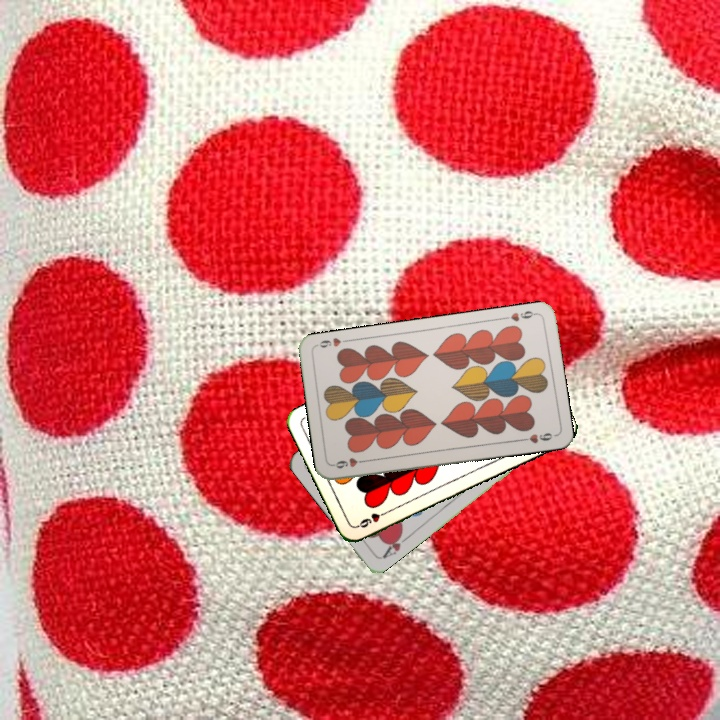H9: (353, 507, 391, 530), (330, 454, 370, 471), (507, 307, 540, 324)
HA: (378, 528, 412, 561)
